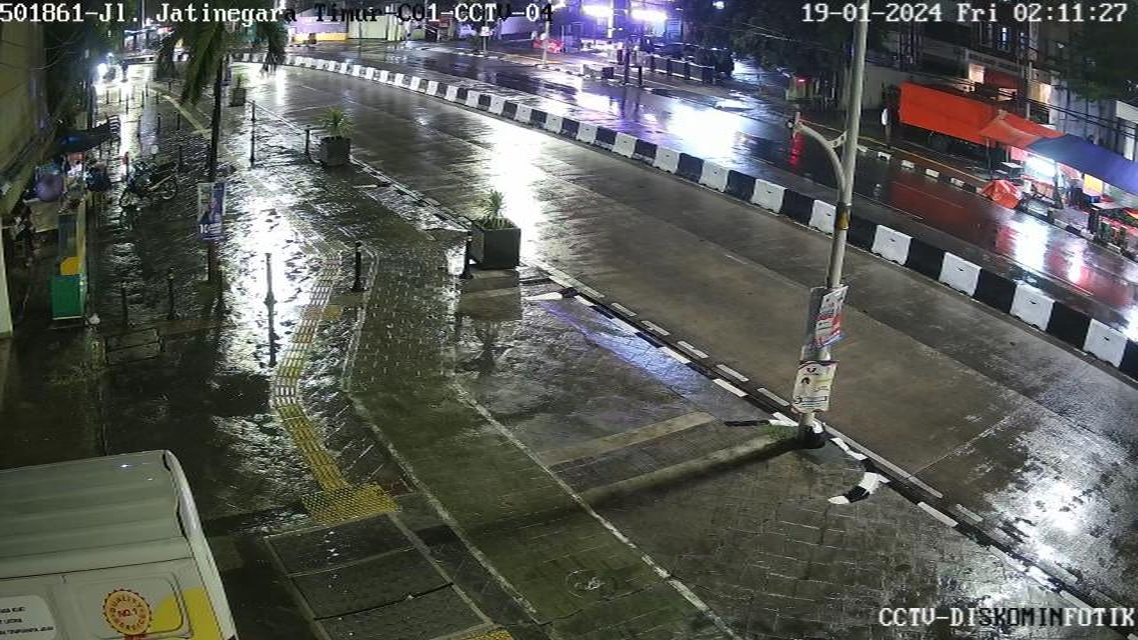Gerobak: (36, 194, 112, 351)
